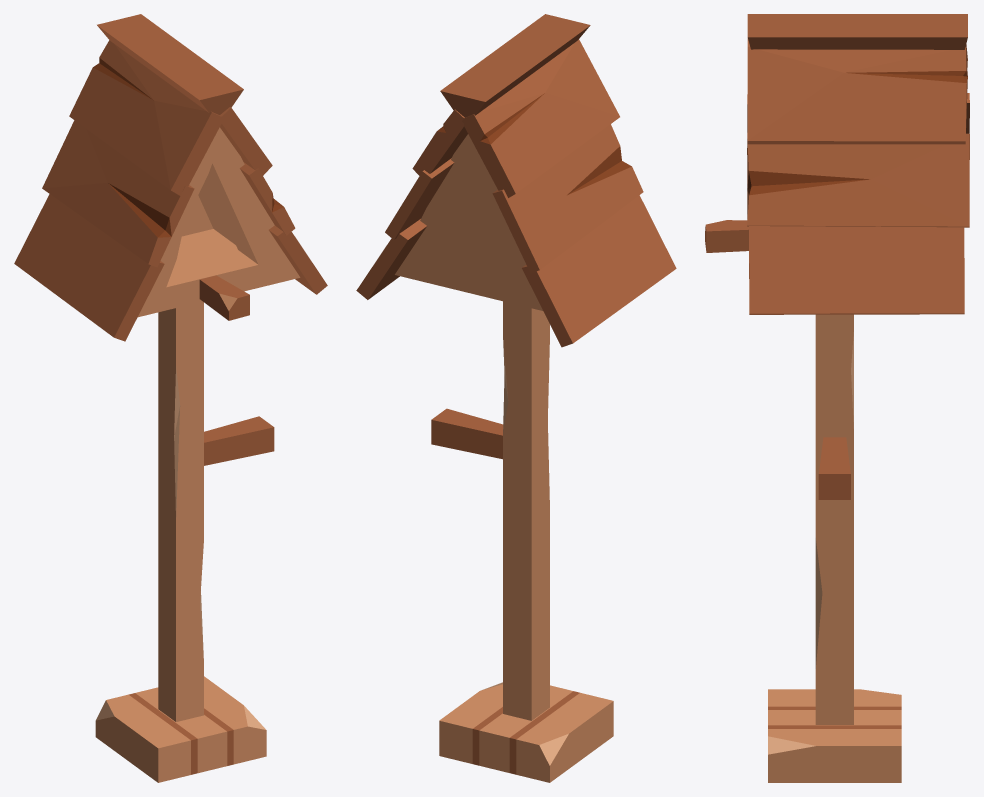
The model's file is Bird_House.fbx.
3 renders of one model, left to right at view 1: azimuth 30°, elevation 25°; view 2: azimuth 150°, elevation 25°; view 3: azimuth 270°, elevation 25°, orthographic. The views are drawn at different scales.
Visible parts, largest first — view 1: Bird_House; view 2: Bird_House; view 3: Bird_House.
Part boxes in pixels (box(x1,y1,x2,y2)): Bird_House: box(14, 14, 327, 782); Bird_House: box(356, 14, 676, 782); Bird_House: box(705, 14, 969, 782).
Size of the model in its own units: 18.09 by 55.1 by 18.13.
